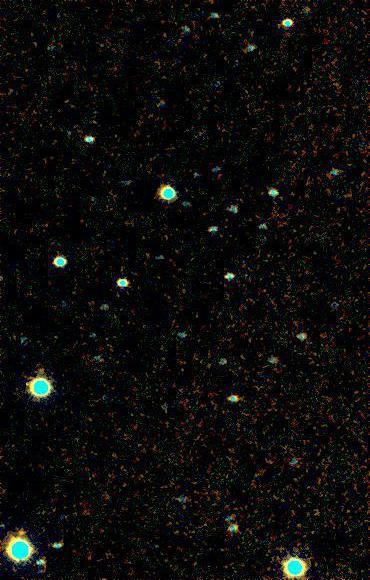star: (6, 519, 36, 549)
